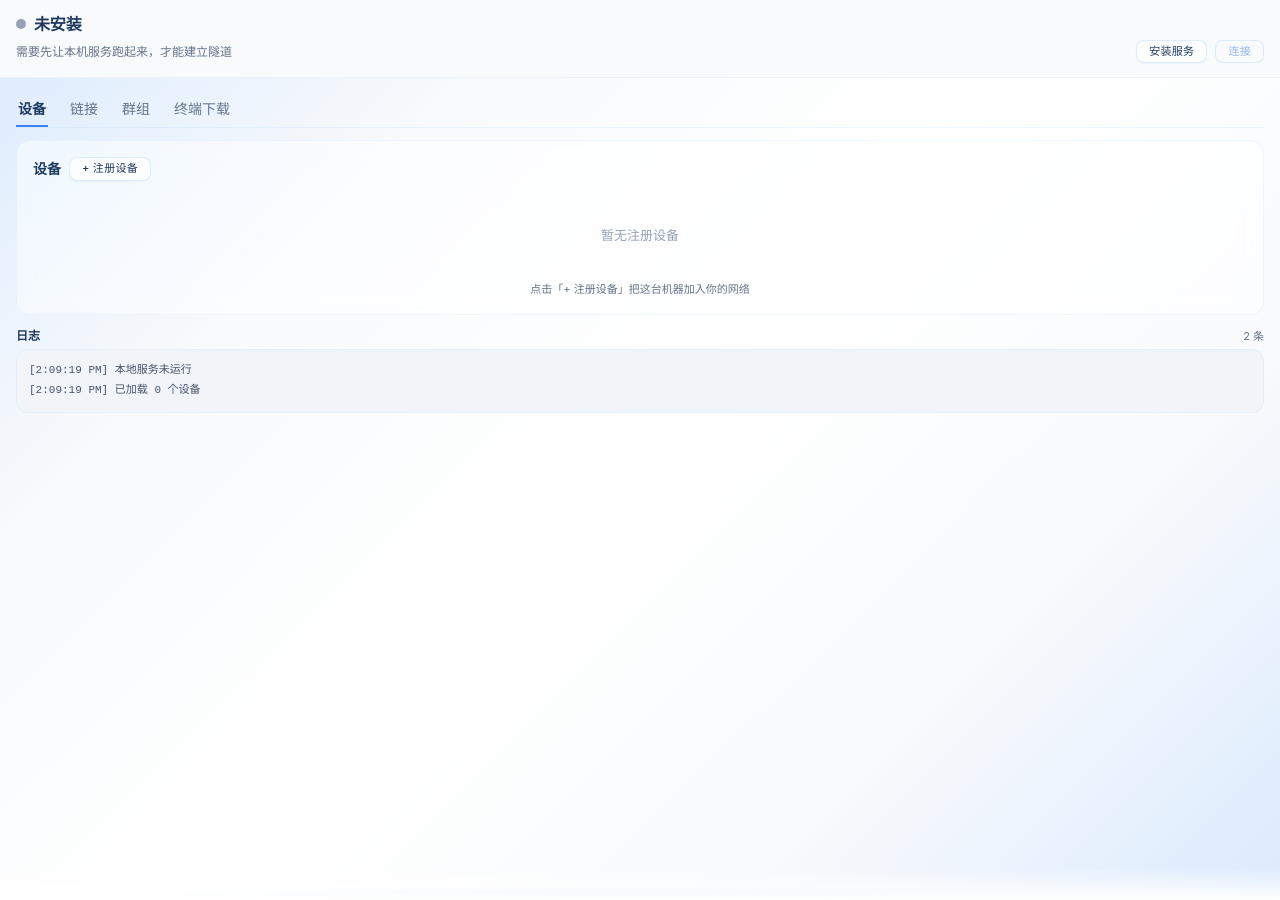
it: 终端下载 tab 的位置（他点名要在群组旁边） › 点开之后渲染的是这个 tab 自己的卡片（不是别的 tab 漏出来）
The image size is (1280, 900).
Click the button "终端下载": (202,109) [172,90,232,128]
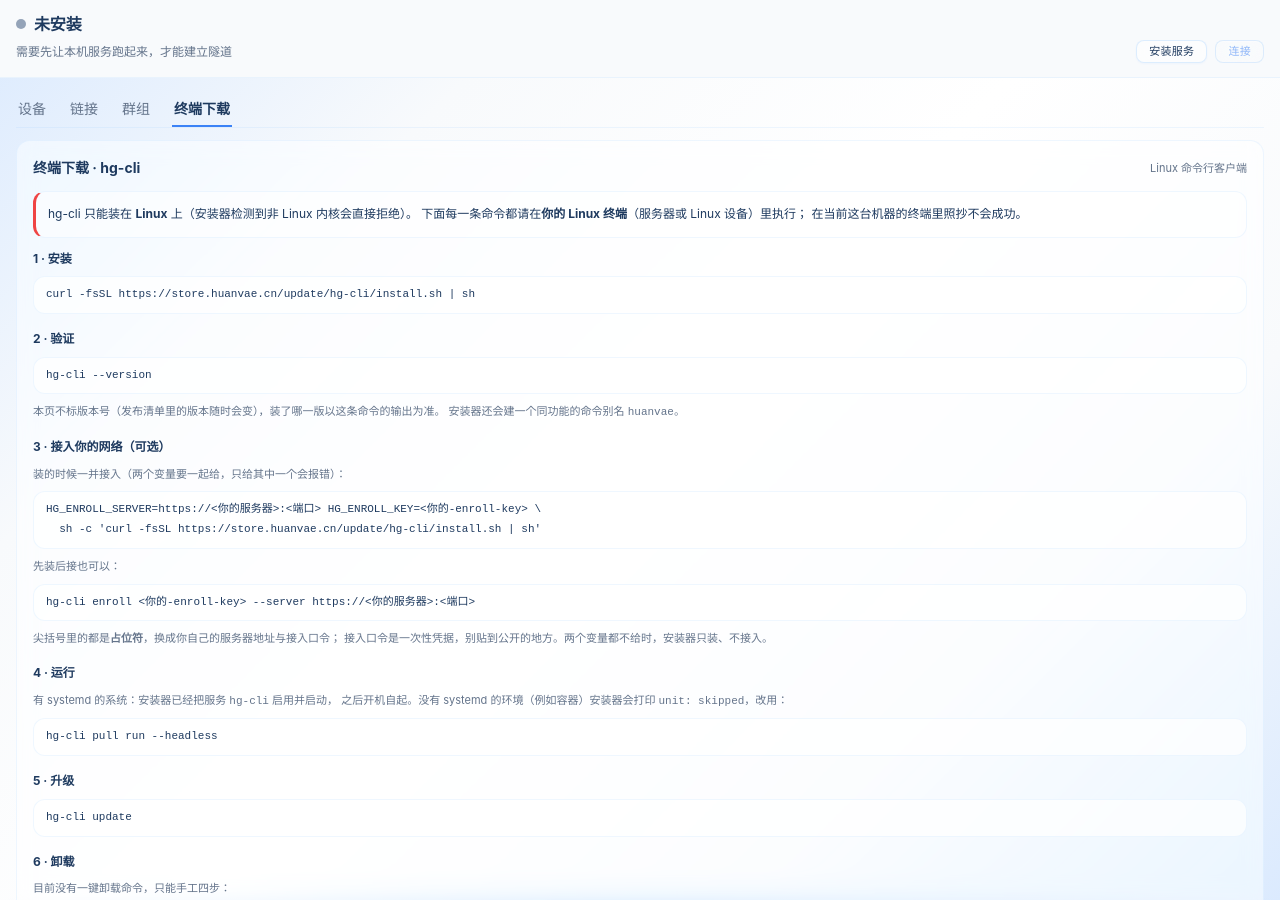
Expected: the text "终端下载 · hg-cli" is shown, [33,158,140,179]
Expected: the button "+ 注册设备" is gone
